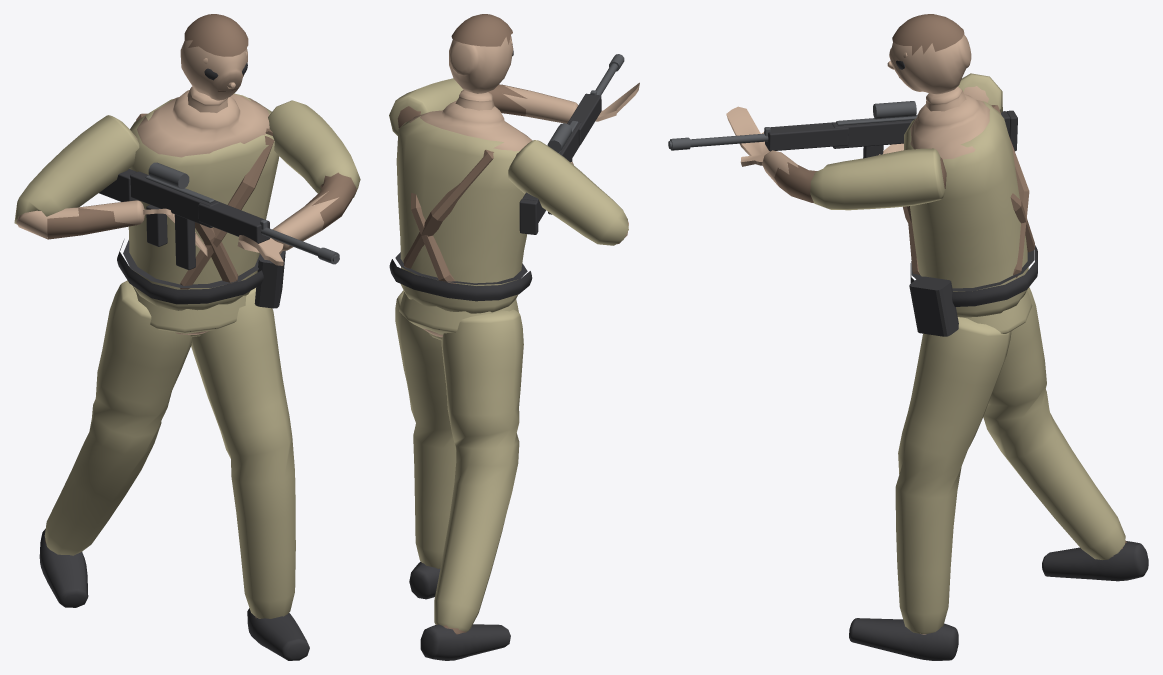
Rendered from tactical-shooter-hill-town-heavy-gunner-standing-aim-9e0a8dfa__27583.glb.
The picture shows the model from 3 angles, left to right: view 1: azimuth 30°, elevation 25°; view 2: azimuth 150°, elevation 25°; view 3: azimuth 270°, elevation 25°; orthographic projection. The views are drawn at different scales.
Parts seen in each view (by area): view 1: heavy-gunner-standing-aim; view 2: heavy-gunner-standing-aim; view 3: heavy-gunner-standing-aim.
Part boxes in pixels (left/top/right/bottom): heavy-gunner-standing-aim: left=14, top=14, right=360, bottom=660; heavy-gunner-standing-aim: left=389, top=14, right=639, bottom=660; heavy-gunner-standing-aim: left=668, top=14, right=1148, bottom=660.
Size of the model in its own units: 0.8335 by 1.82 by 1.28.
